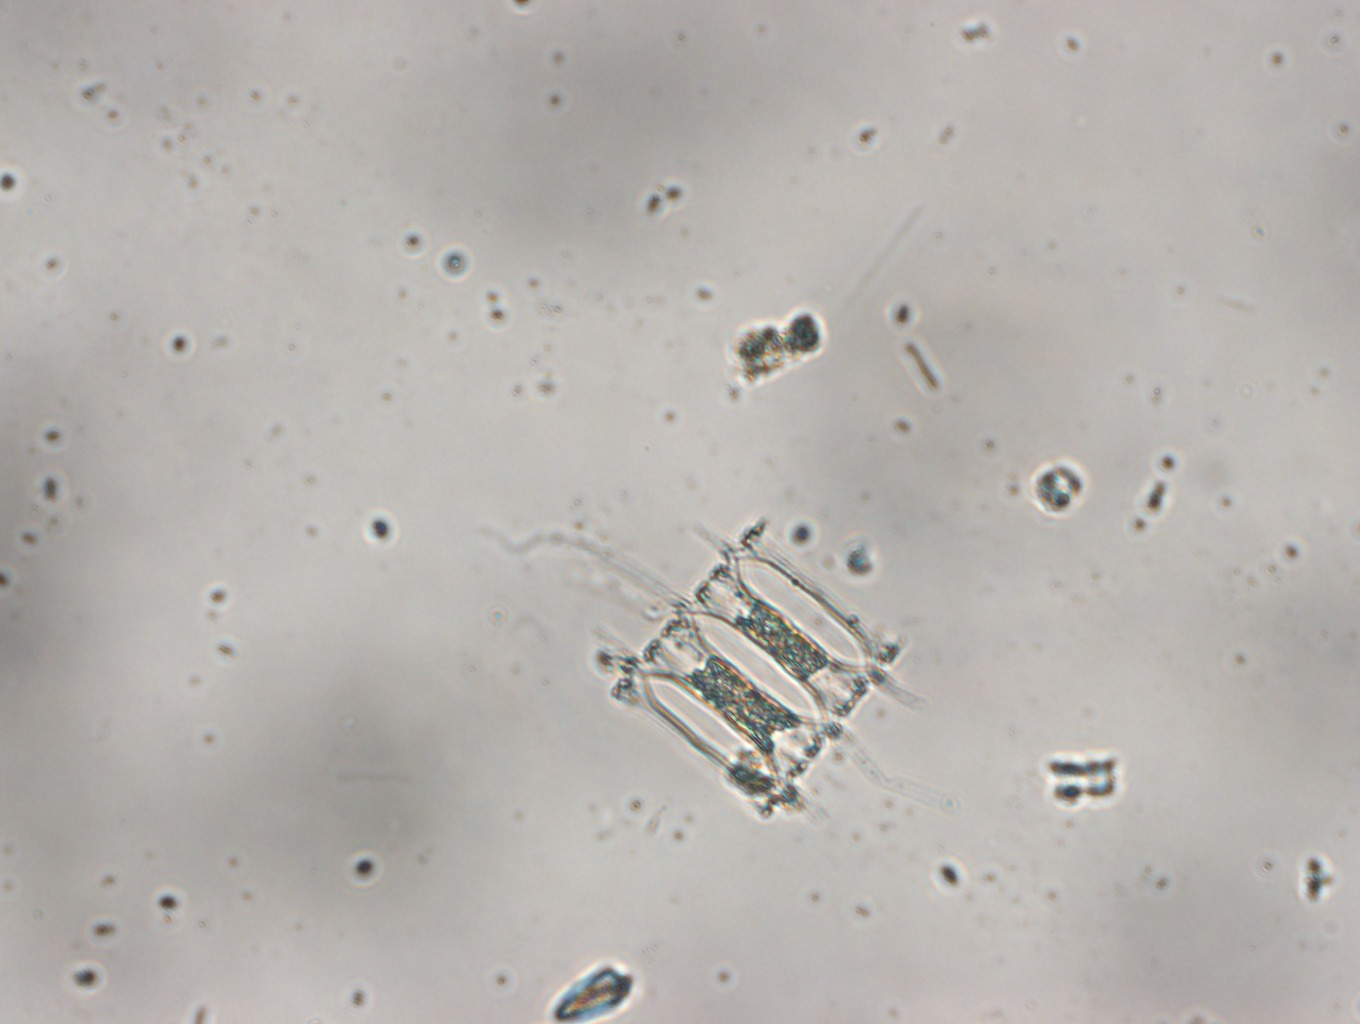chaetoceros: (591, 509, 914, 837)
